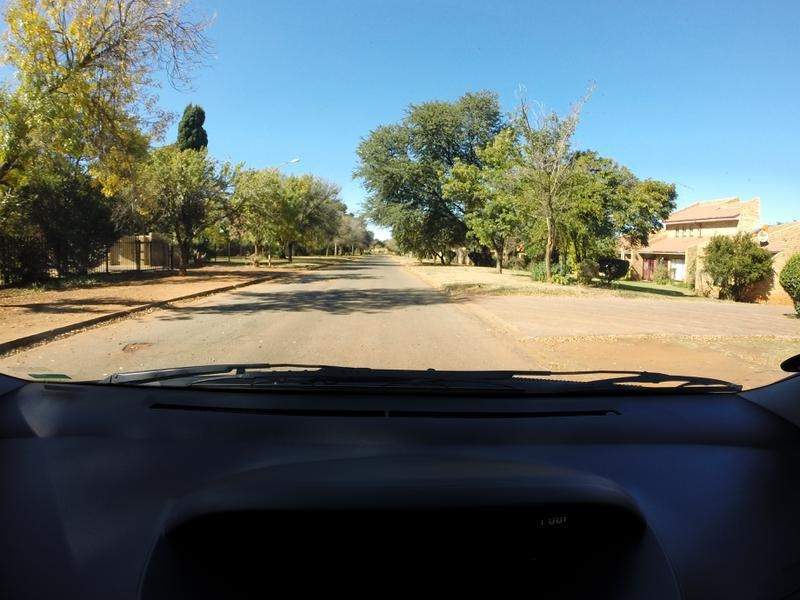pothole: (121, 337, 148, 359)
